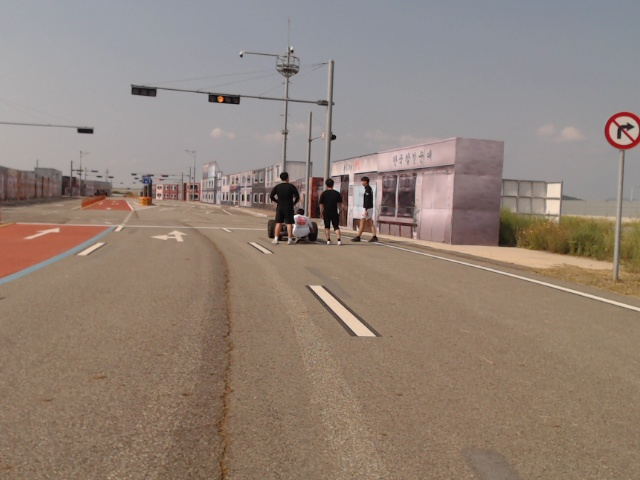orange_4: (208, 91, 241, 105)
